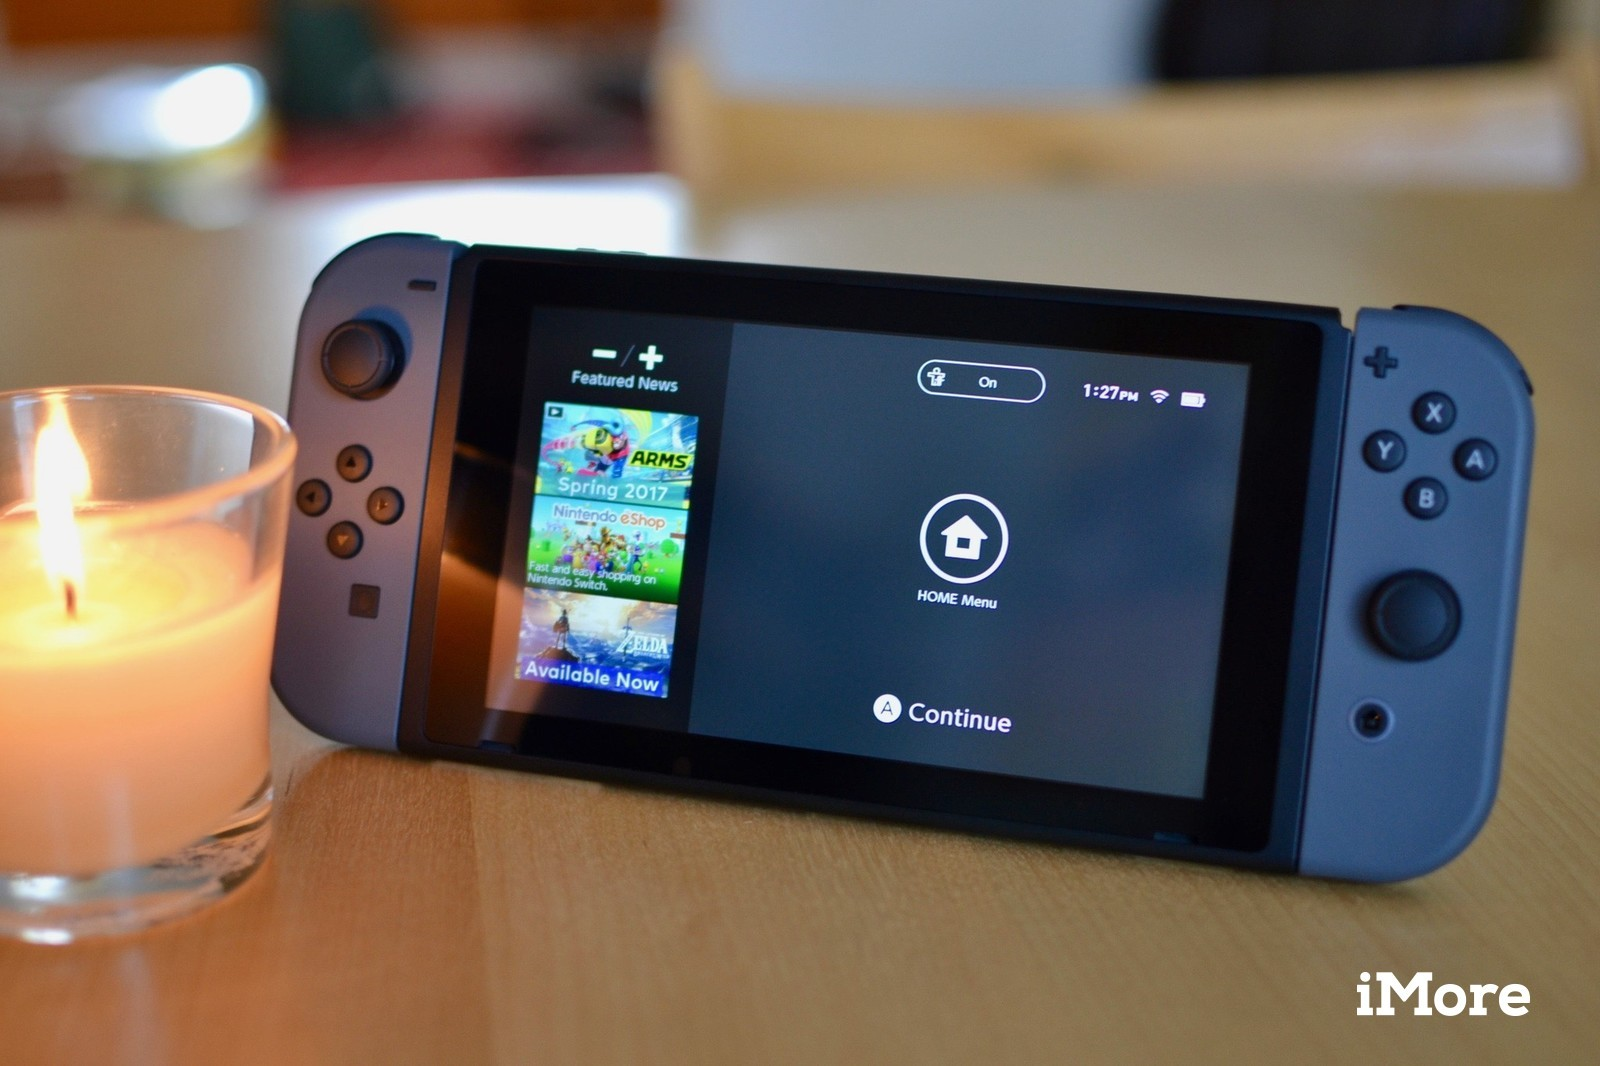NintendoSwitch: (266, 222, 1541, 899)
